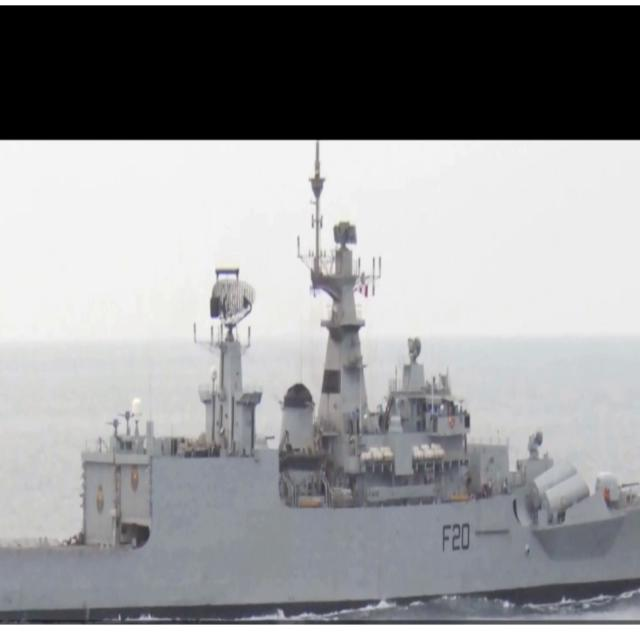OCR: (436, 518, 470, 558)
